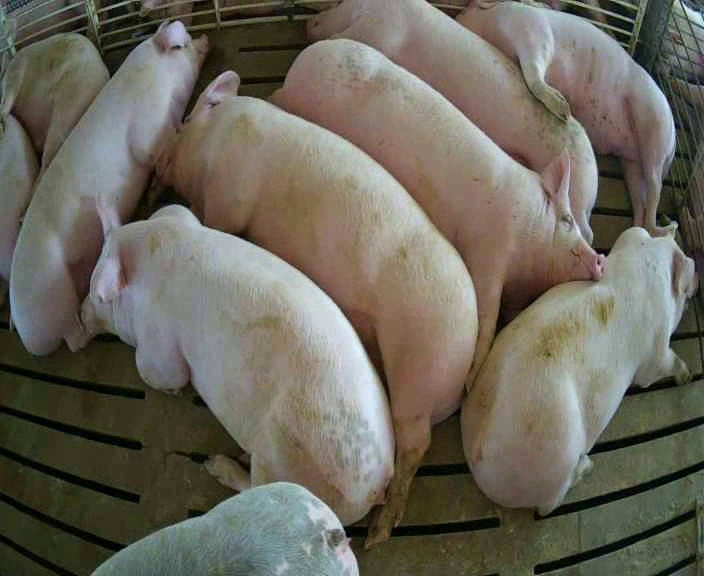pig: (272, 39, 602, 387), (82, 181, 393, 522), (309, 2, 597, 242), (461, 223, 695, 514), (458, 2, 674, 228), (93, 482, 357, 574), (0, 34, 108, 171), (0, 115, 38, 279)
